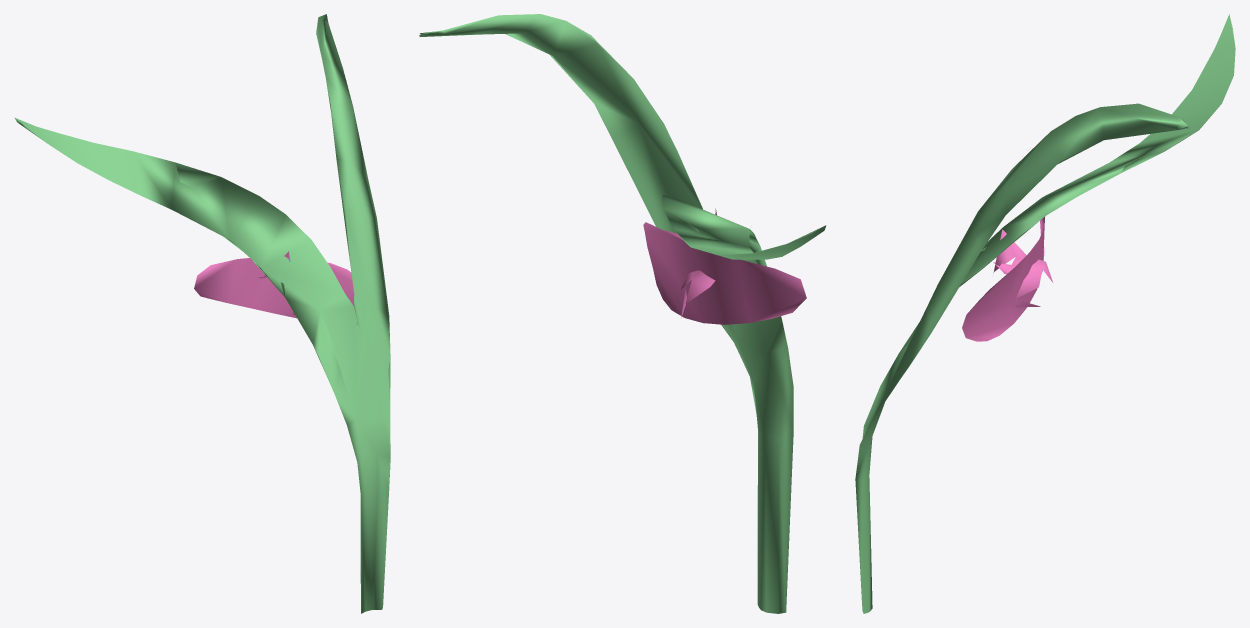
File: flower_03_daisy_detach.glb
3 views of the same model, side by side, from view 1: azimuth 30°, elevation 25°; view 2: azimuth 150°, elevation 25°; view 3: azimuth 270°, elevation 25° (orthographic). The views are drawn at different scales.
Parts seen in each view (by area): view 1: Piece_Leaf, Piece_Petal_A; view 2: Piece_Leaf, Piece_Petal_A, Piece_Petal_B; view 3: Piece_Leaf, Piece_Petal_A, Piece_Petal_B.
Boxes of the visible parts, box(x1,y1,x2,y2) form: Piece_Leaf: box(14, 14, 390, 613); Piece_Petal_A: box(194, 258, 354, 318); Piece_Leaf: box(419, 14, 826, 613); Piece_Petal_A: box(643, 222, 806, 324); Piece_Petal_B: box(664, 208, 716, 318); Piece_Leaf: box(855, 14, 1235, 613); Piece_Petal_A: box(962, 216, 1045, 341); Piece_Petal_B: box(993, 229, 1052, 307).
Size of the model in its own units: 0.5221 by 0.8061 by 0.5127.
